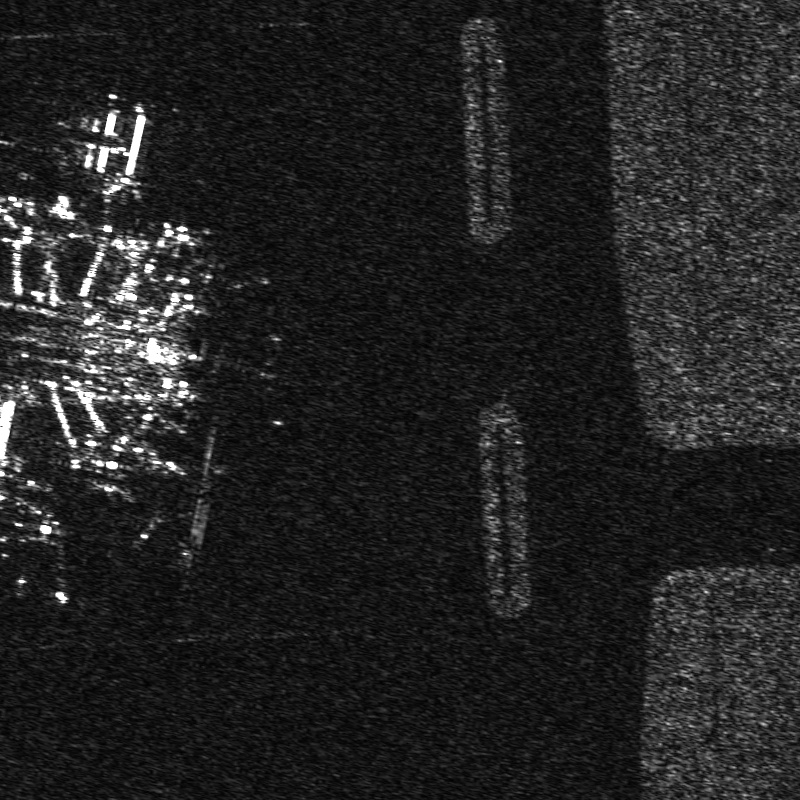A320/321: (120, 492, 209, 575)
